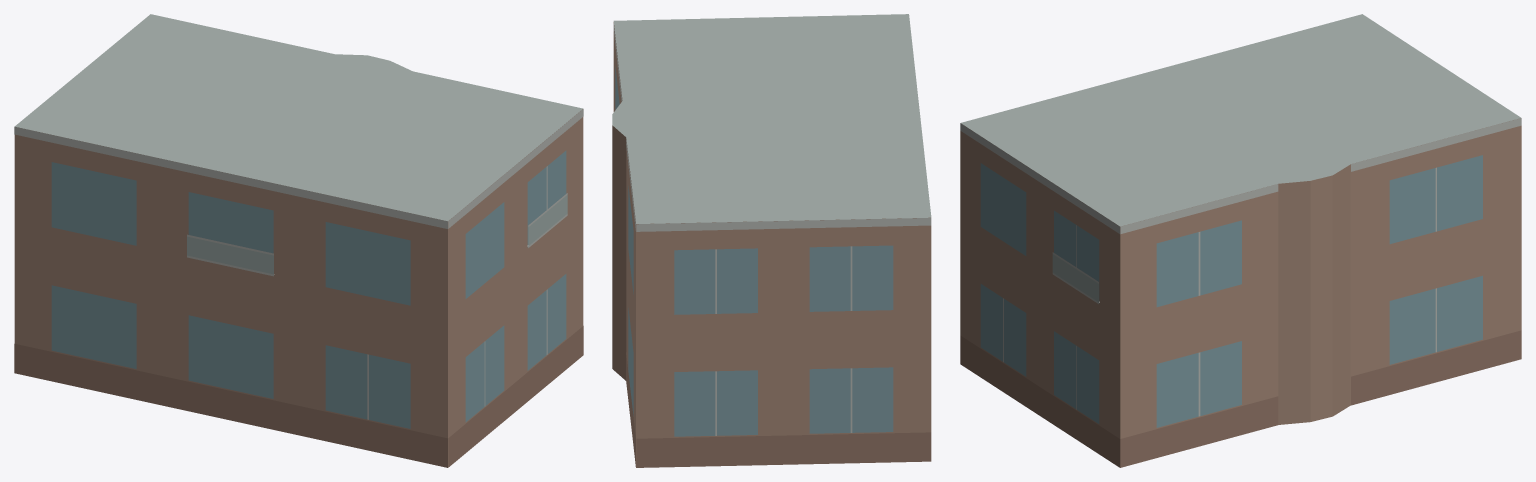
Rendered from survey-upis-32619272.glb.
3 views of the same model, side by side, from view 1: azimuth 30°, elevation 25°; view 2: azimuth 150°, elevation 25°; view 3: azimuth 270°, elevation 25° (orthographic). The views are drawn at different scales.
Parts seen in each view (by area): view 1: survey-upis-32619272.tmp; view 2: survey-upis-32619272.tmp; view 3: survey-upis-32619272.tmp.
Part boxes in pixels (x1=…): survey-upis-32619272.tmp: x1=14, y1=14, x2=583, y2=467; survey-upis-32619272.tmp: x1=612, y1=14, x2=931, y2=467; survey-upis-32619272.tmp: x1=960, y1=14, x2=1521, y2=467.
Bounding box in the file's own units: 14.37 × 7.6 × 16.03.
